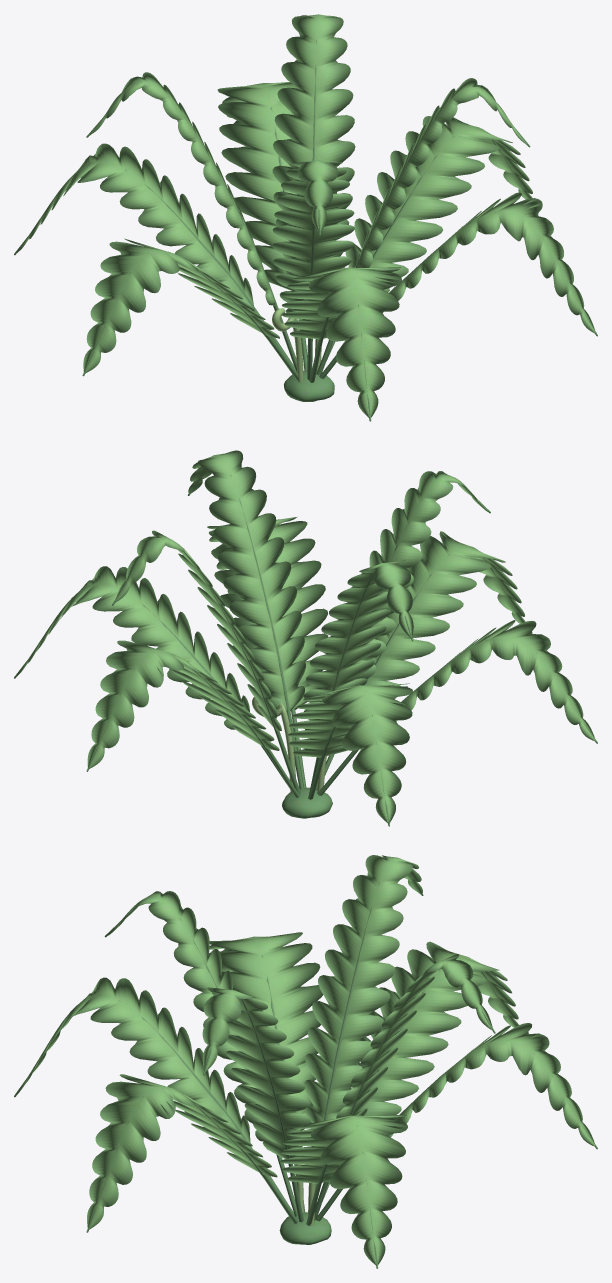
File: fern.glb
3 views of the same model, one above another, from view 1: azimuth 30°, elevation 25°; view 2: azimuth 150°, elevation 25°; view 3: azimuth 270°, elevation 25° (orthographic). The views are drawn at different scales.
Parts seen in each view (by area): view 1: fern.001; view 2: fern.001; view 3: fern.001.
Part boxes in pixels (bbox=[...]): fern.001: bbox=[14, 14, 597, 421]; fern.001: bbox=[14, 450, 597, 826]; fern.001: bbox=[14, 855, 597, 1268].
Size of the model in its own units: 1.76 by 1 by 1.67.
1 material, 1 textured.
